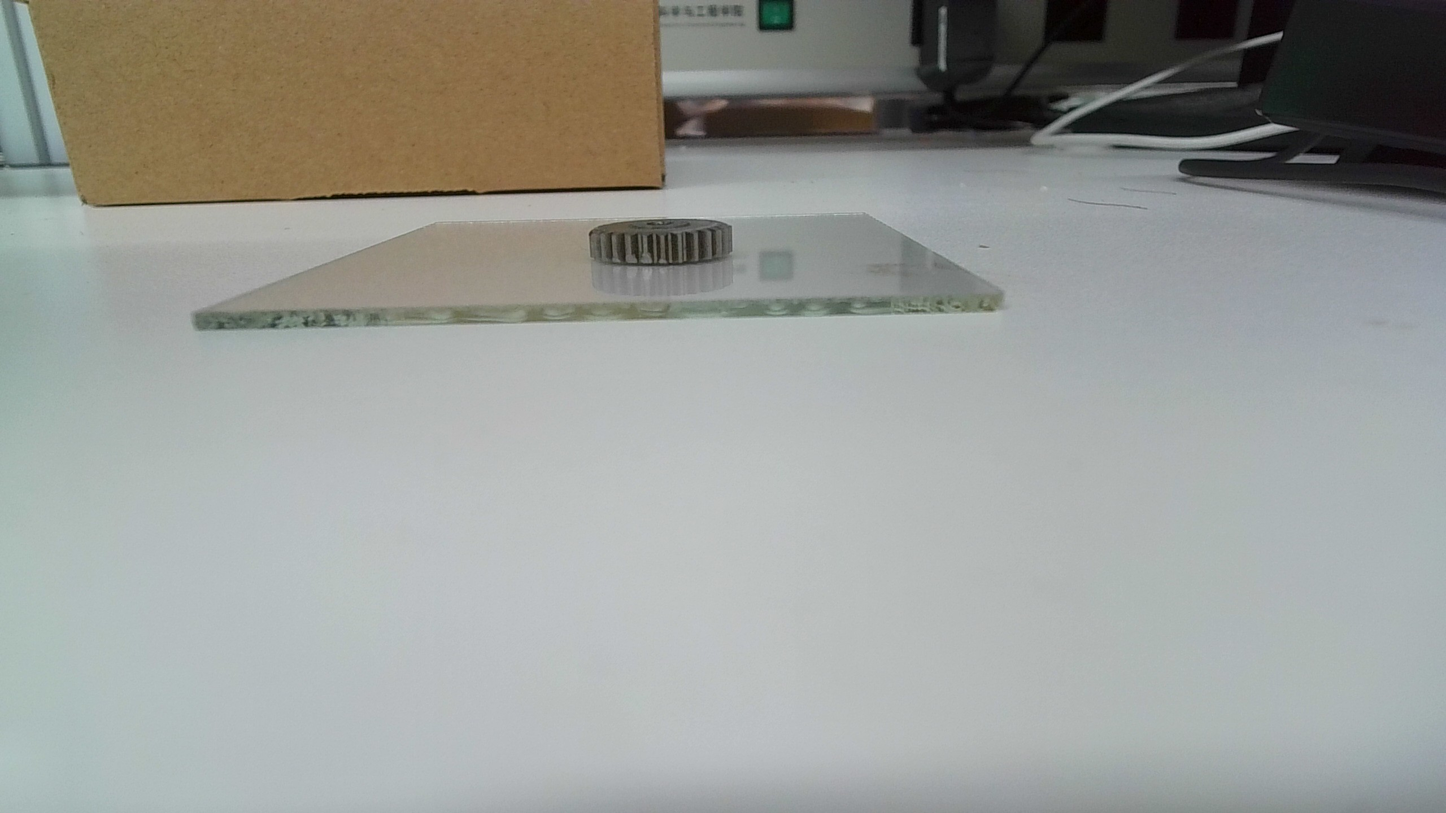gear: (585, 216, 737, 266)
